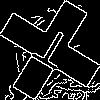T: (25, 25, 75, 80)
